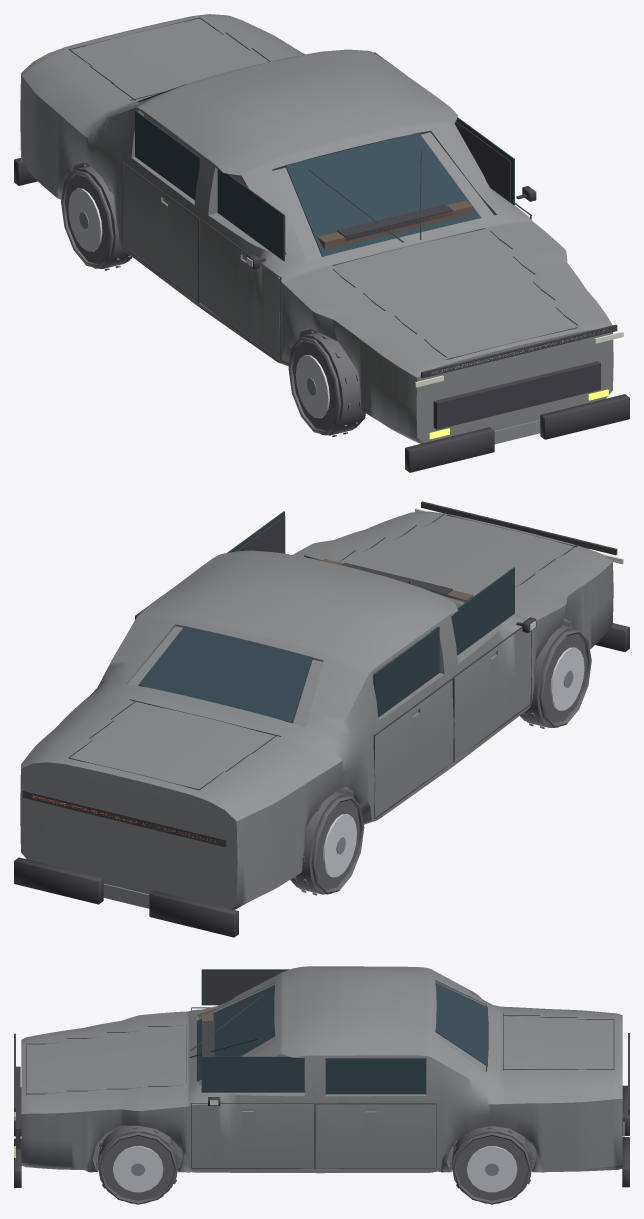
The model's file is Sedan_Mid_A_Grey.fbx.
The picture shows the model from 3 angles, top to bottom: view 1: azimuth 30°, elevation 25°; view 2: azimuth 150°, elevation 25°; view 3: azimuth 270°, elevation 25°; orthographic projection. The views are drawn at different scales.
Visible parts, largest first — view 1: LOD0; view 2: LOD0; view 3: LOD0.
Part boxes in pixels (<box>): LOD0: <box>14,14,629,472</box>; LOD0: <box>14,501,629,937</box>; LOD0: <box>14,966,629,1204</box>.
Size of what is drawn, in the model's own units: 204 by 144 by 491.
